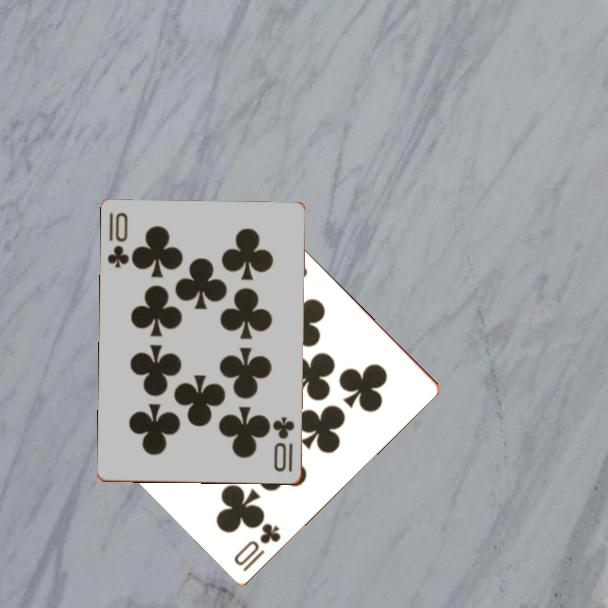c10: (230, 519, 284, 574), (270, 414, 298, 475), (104, 210, 132, 271)
